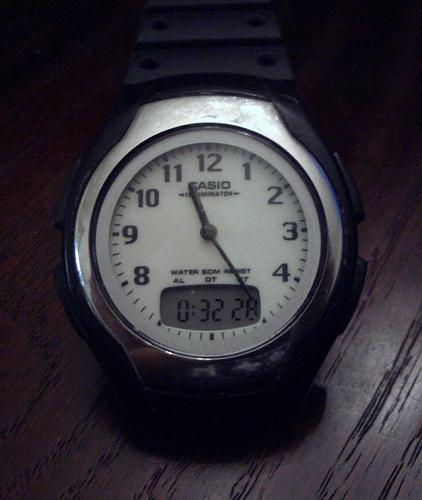watch: (59, 0, 365, 459)
